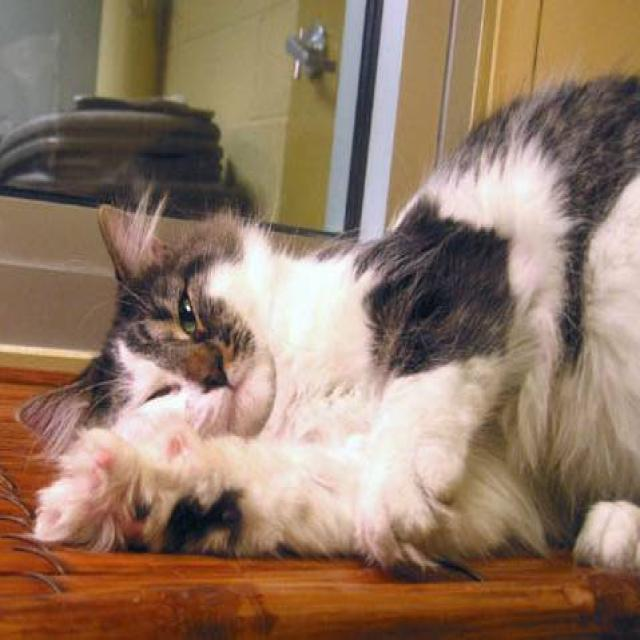cat: (16, 66, 639, 581)
